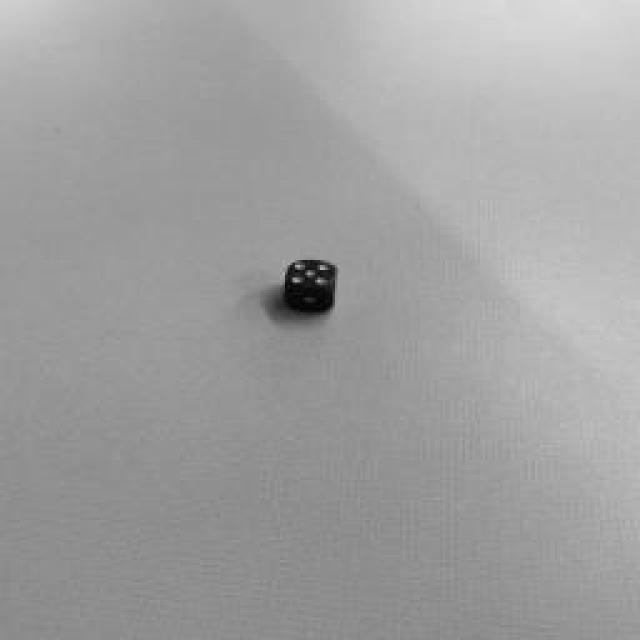dice_5: (286, 259, 339, 289)
